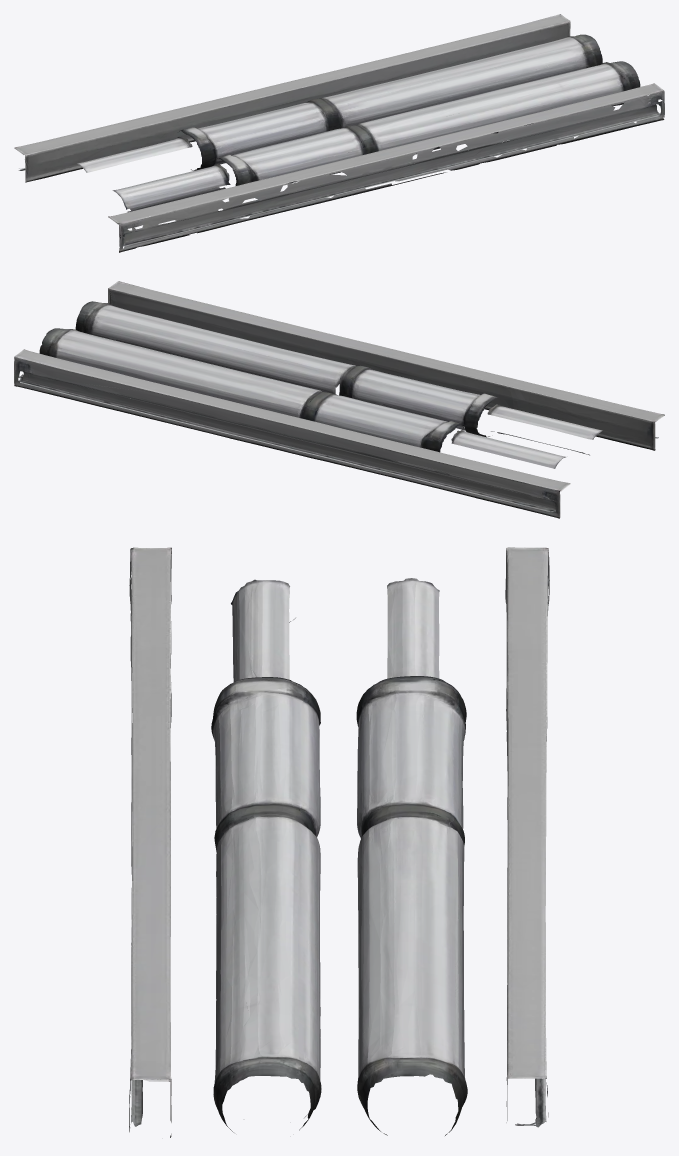
3 views of the same model, one above another, from view 1: azimuth 30°, elevation 25°; view 2: azimuth 150°, elevation 25°; view 3: azimuth 270°, elevation 25° (orthographic). The views are drawn at different scales.
Visible parts, largest first — view 1: geometry_0; view 2: geometry_0; view 3: geometry_0.
Boxes of the visible parts, x1,y1,x2,y2 form: geometry_0: [14, 14, 664, 252]; geometry_0: [14, 281, 664, 518]; geometry_0: [129, 547, 549, 1137].
Size of the model in its own units: 1 by 0.0611 by 0.3338.
1 material, 1 textured.
